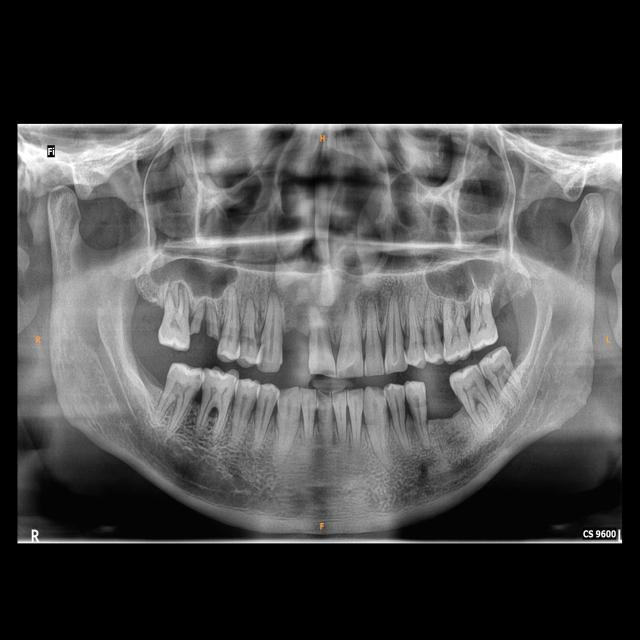kirik: (188, 304, 225, 350)
